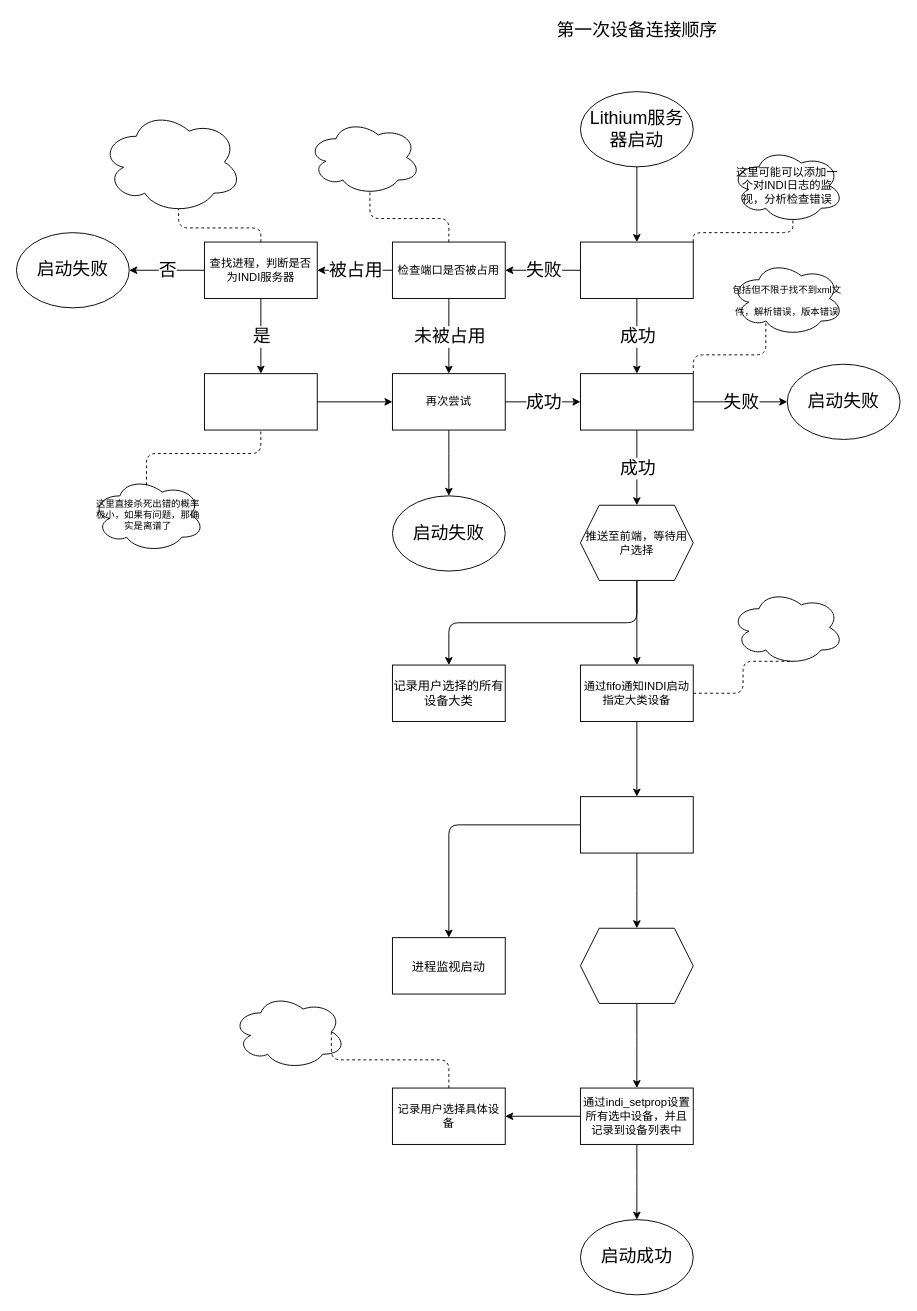
The diagram is 917 pixels wide and 1311 high, and some of its shapes have lost their labels. The shapes that lost their labels are listed below. From the top down, each one's box as (x1, y1, x2, y2) in pixels, then its label:
(100, 110, 242, 214): 此处如果为INDI服务器，那么我们可以放心的杀死，INDI会处理设备断开连接的问题，但是如果是其他软件则需要由用户判断
(307, 119, 421, 195): 这里类似的还有fifo管道文件是否已经创建、是否有缓存，都需要进行检查
(580, 241, 693, 298): 启动INDI服务器
(204, 373, 317, 430): 直接杀死
(580, 373, 693, 430): 获取所有可用设备大类，扫描指定目录下的xml文件
(730, 589, 844, 665): 后续步骤出错概率较小，可以暂时不做异常处理，但是未来需要添加
(580, 796, 693, 853): 通过indi_getprop获取所有可以使用的设备
(580, 927, 693, 1003): 推送前端，等待用户选择
(232, 993, 345, 1069): 这里直接在大类驱动中添加
